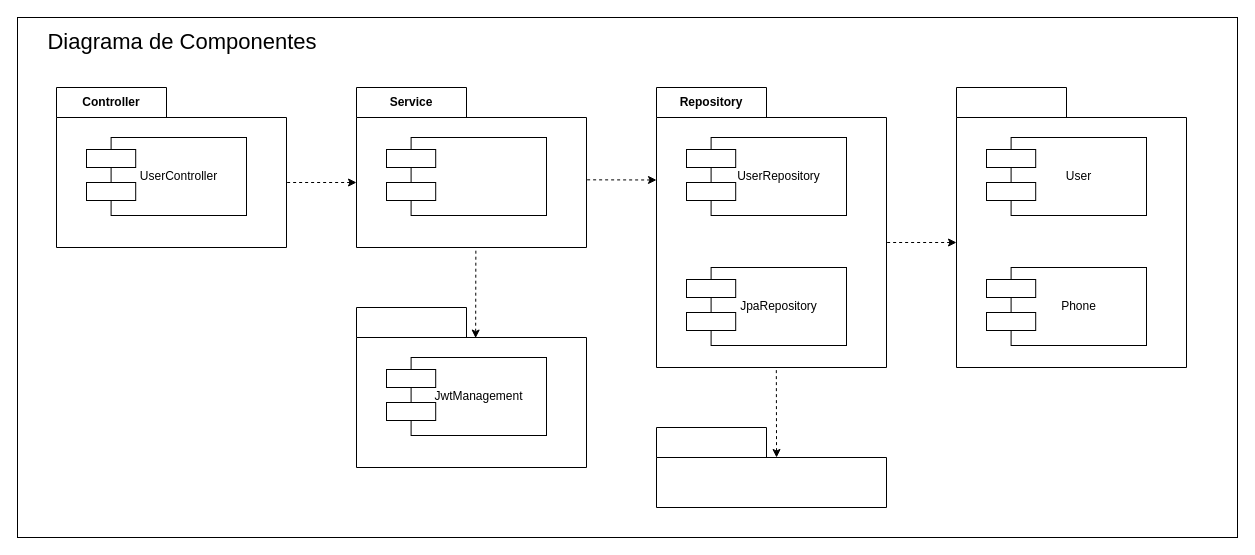
Image size: 1255x555. Some labels were removed from this diagram. The shapes that lost their labels are listed below. From the top down, each one's box as (x1, y1, x2, y2) in pixels, then its label:
(410, 136, 546, 216): UserService
(956, 86, 1186, 368): Model
(356, 306, 586, 468): Security
(656, 426, 886, 508): H2 Database
